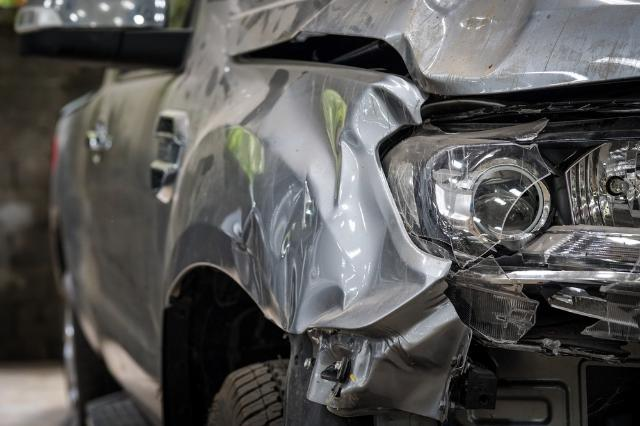dent: (233, 87, 467, 412), (386, 4, 531, 78)
lamp broken: (380, 86, 640, 366)
